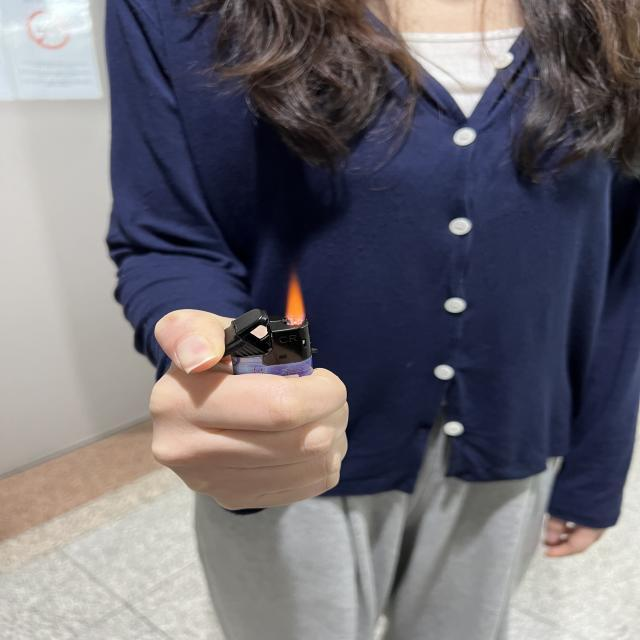fire: (282, 273, 310, 328)
